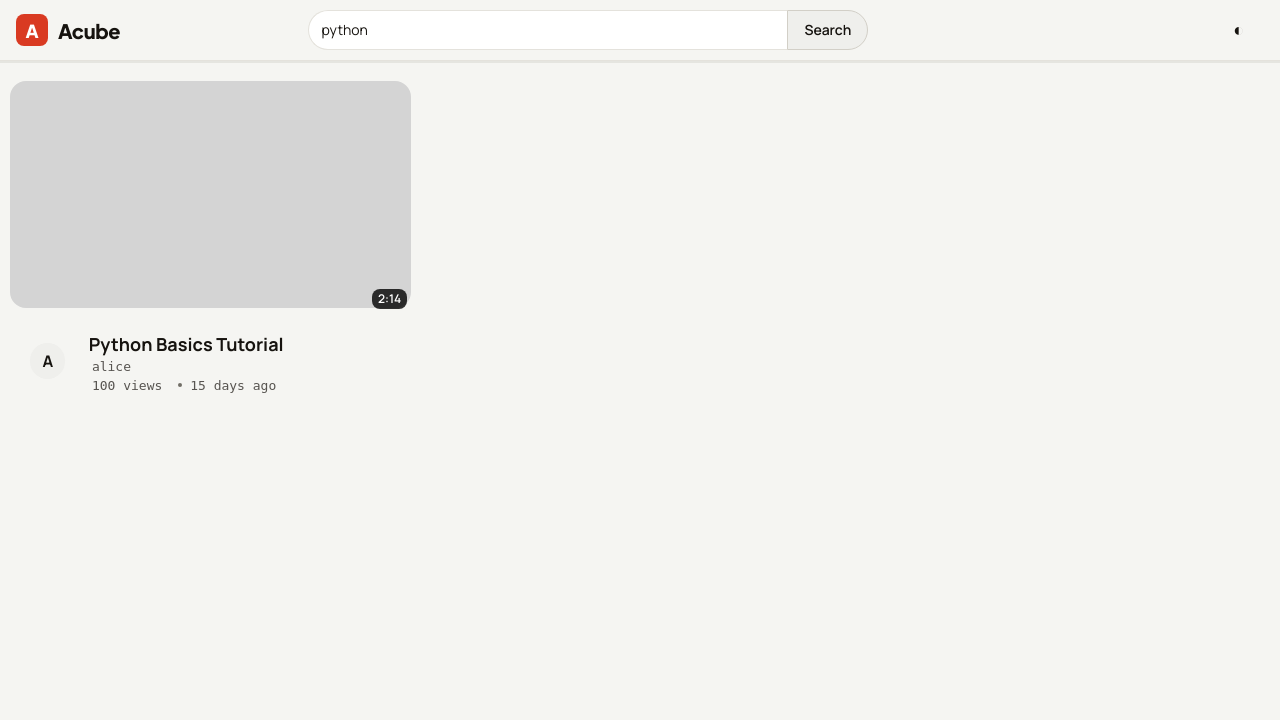
Test: Shell switch › clearing the search box and submitting returns to the home feed
Clear the search field named "Search videos" at (548, 30), box x1=308 y1=10 x2=788 y2=50
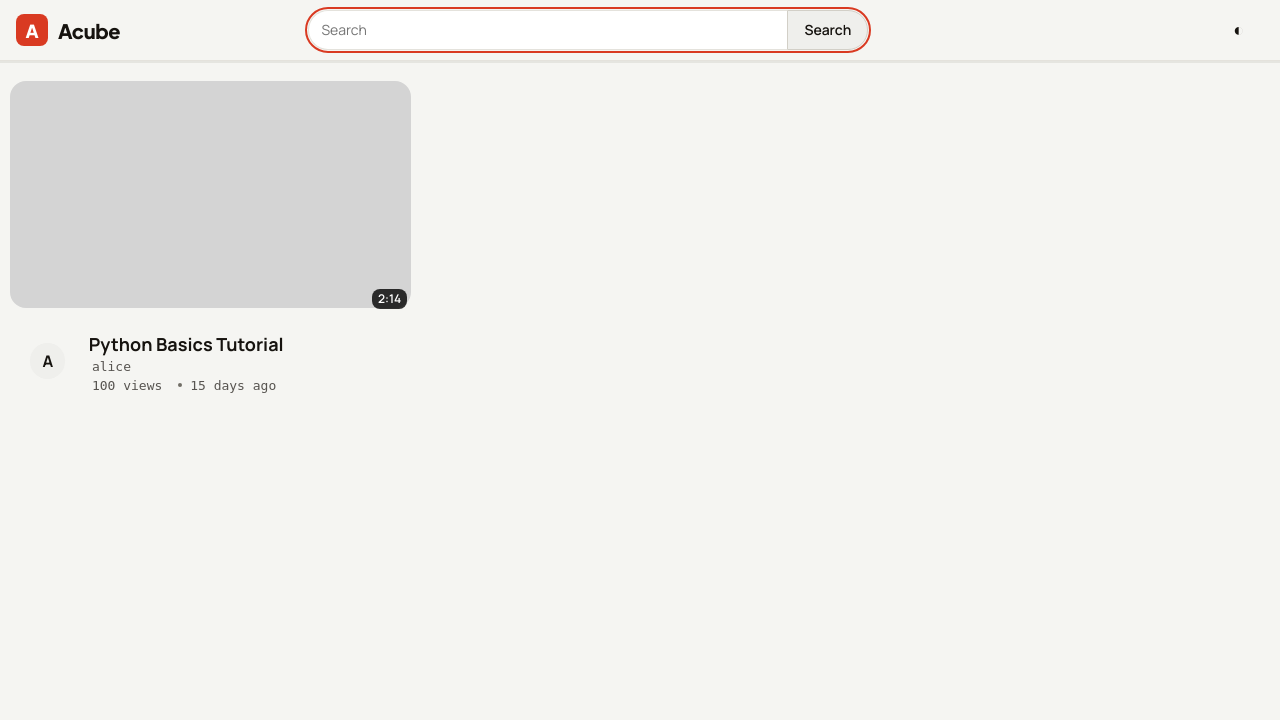
Click the button "Search" at (828, 30), box x1=787 y1=10 x2=868 y2=50
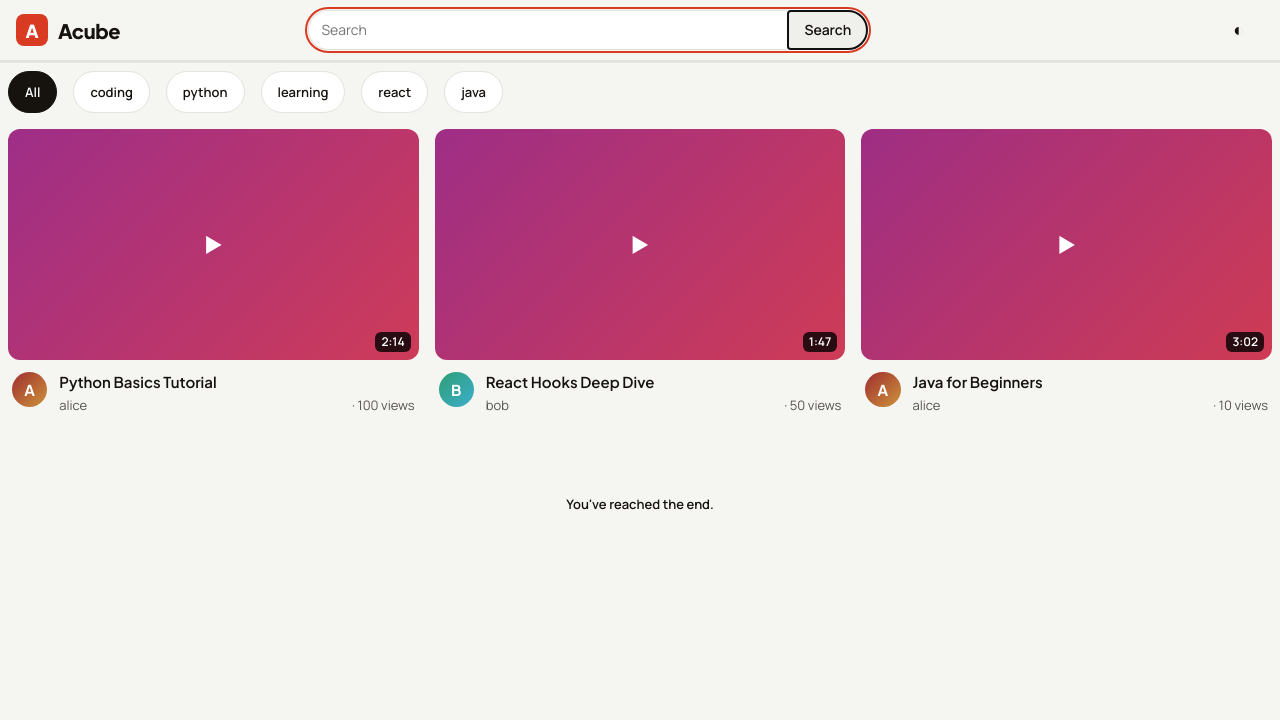
expect the text "React Hooks Deep Dive" is shown: met, box x1=486 y1=372 x2=654 y2=391
expect the text "Java for Beginners" is shown: met, box x1=912 y1=372 x2=1043 y2=391
